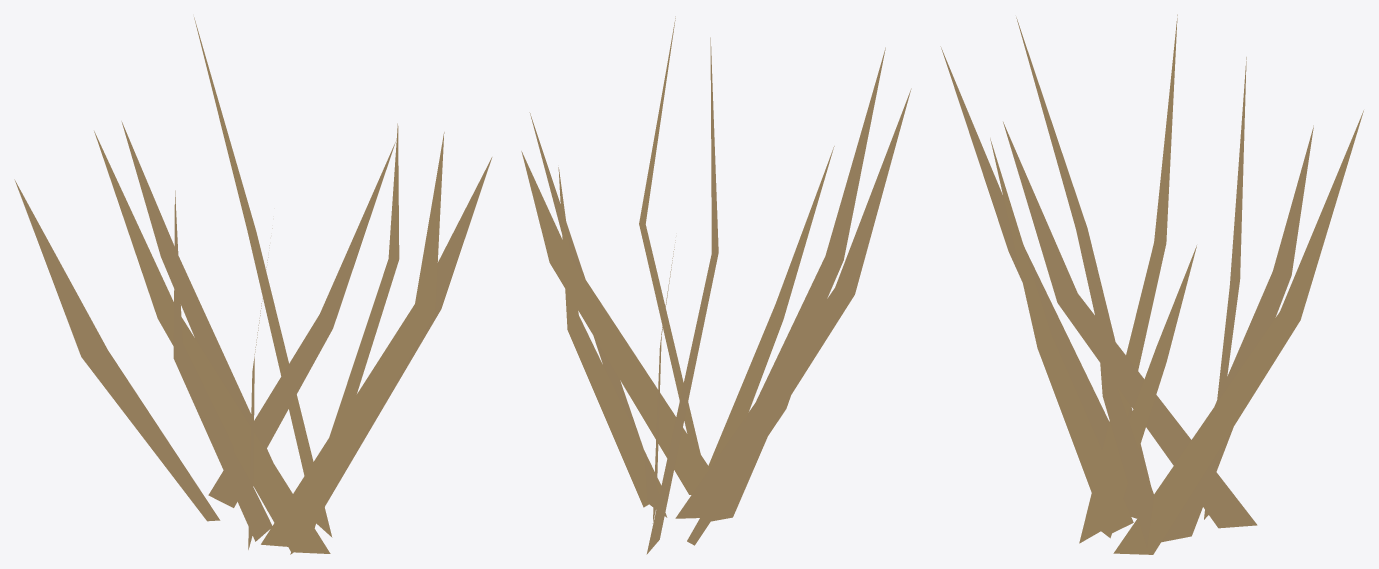
The model's file is Dead_Bush_b_03.fbx.
3 renders of one model, left to right at view 1: azimuth 30°, elevation 25°; view 2: azimuth 150°, elevation 25°; view 3: azimuth 270°, elevation 25°, orthographic. The views are drawn at different scales.
Parts seen in each view (by area): view 1: Dead_Bush_b_03; view 2: Dead_Bush_b_03; view 3: Dead_Bush_b_03.
Boxes of the visible parts, box(x1,y1,x2,y2) form: Dead_Bush_b_03: box(14, 17, 492, 554); Dead_Bush_b_03: box(521, 16, 911, 554); Dead_Bush_b_03: box(940, 14, 1363, 554).
Size of the model in its own units: 0.5587 by 0.5828 by 0.5069.
